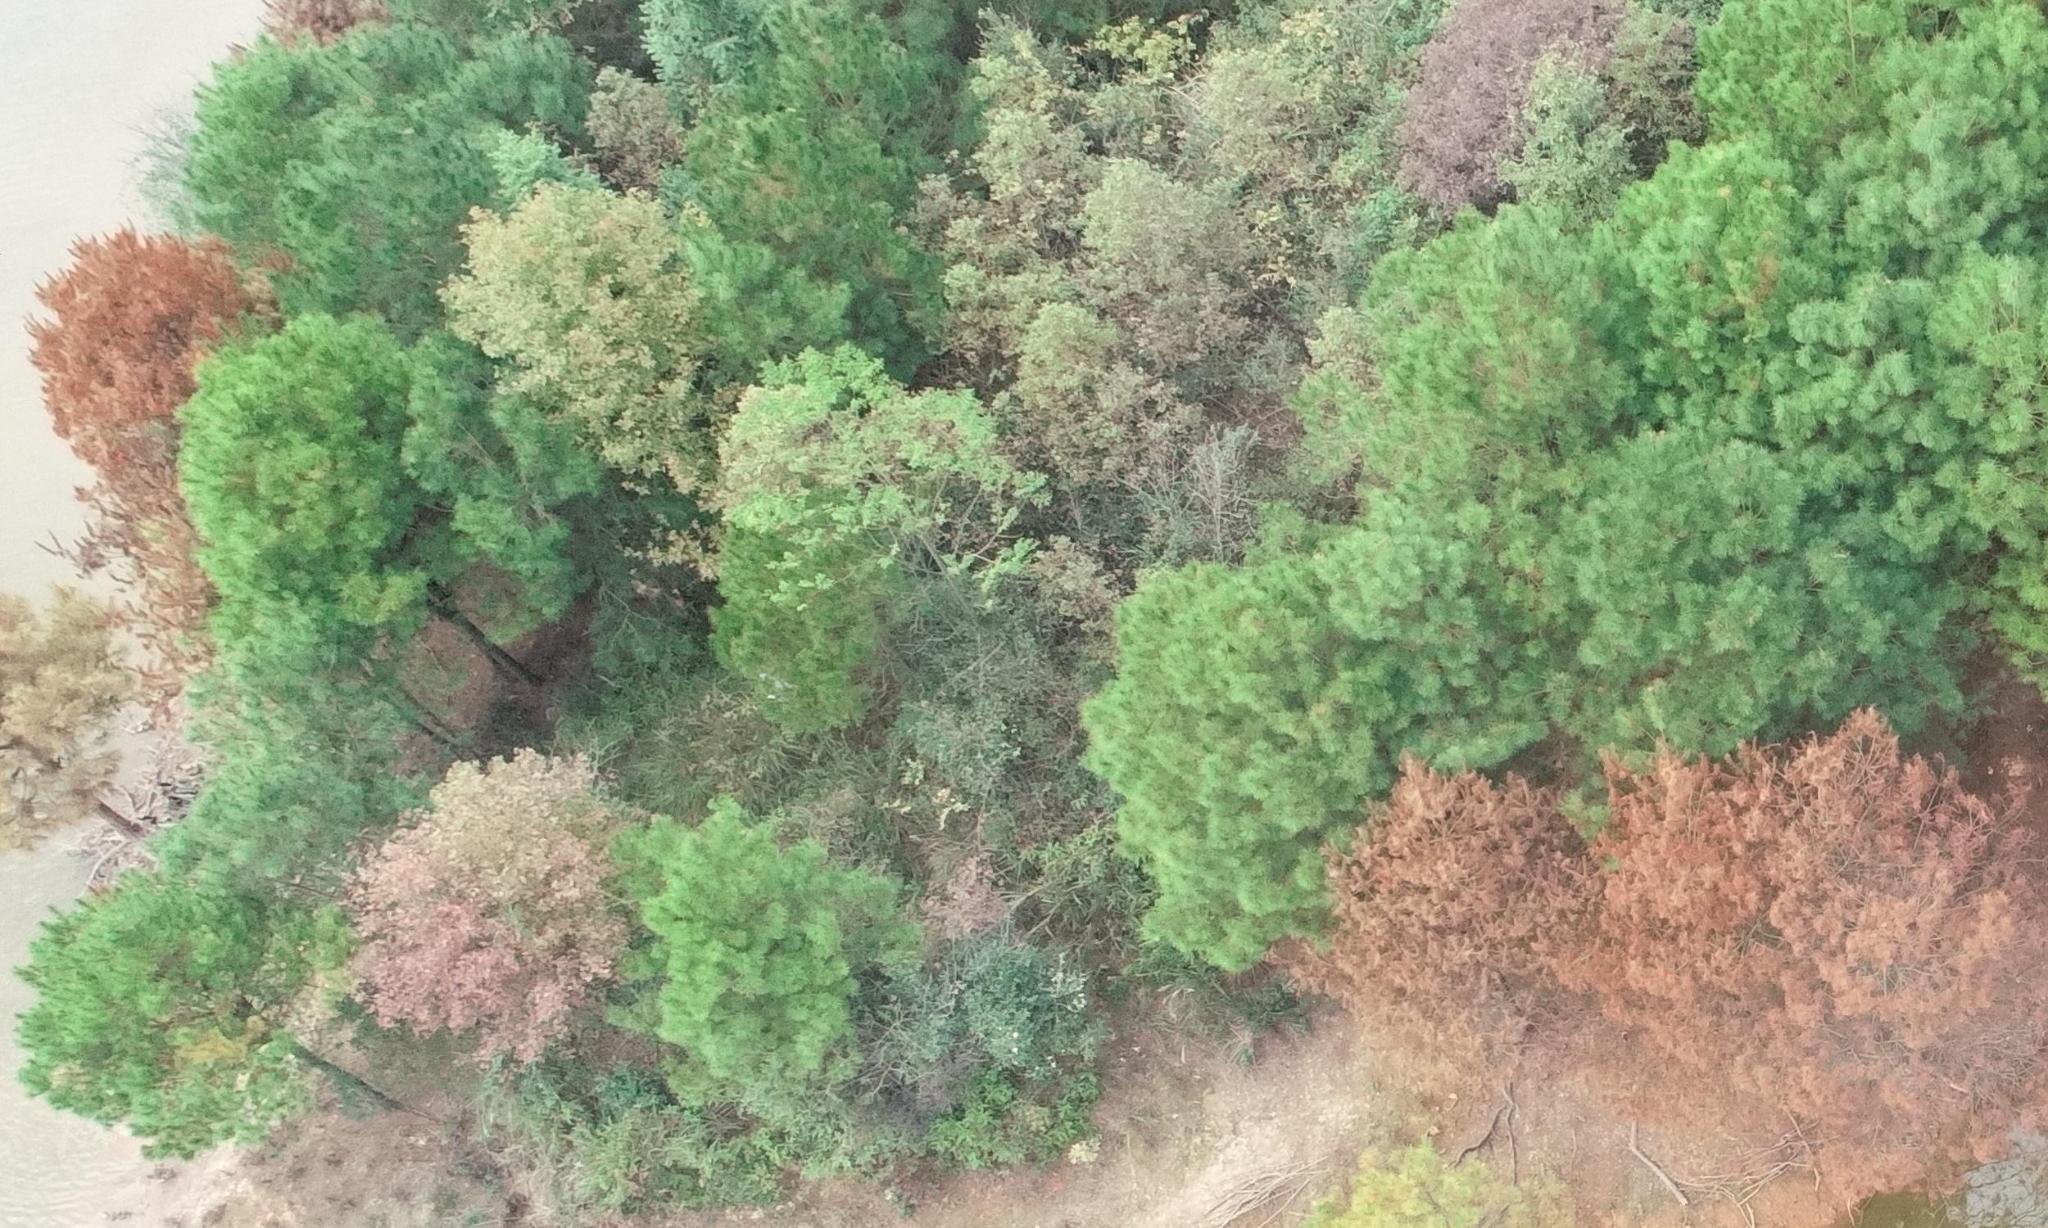heavy: (1605, 737, 2047, 1191), (1302, 760, 1567, 1057), (370, 757, 614, 1055), (32, 230, 251, 466)
